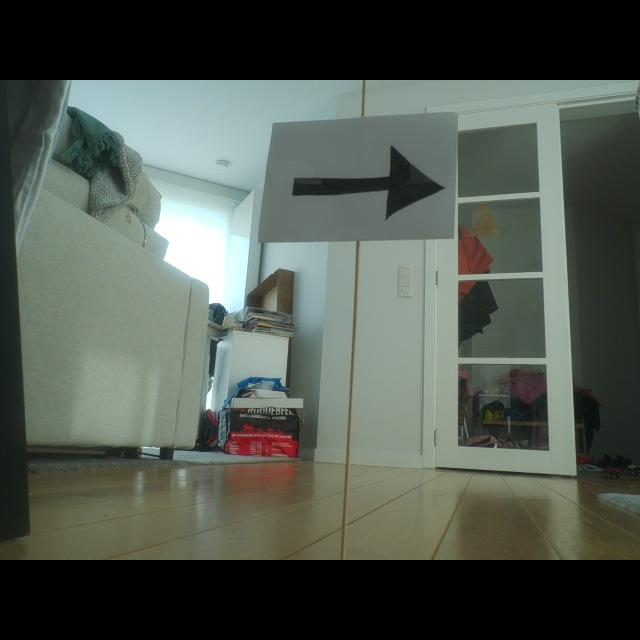jobbra_nyil: (293, 146, 444, 219)
